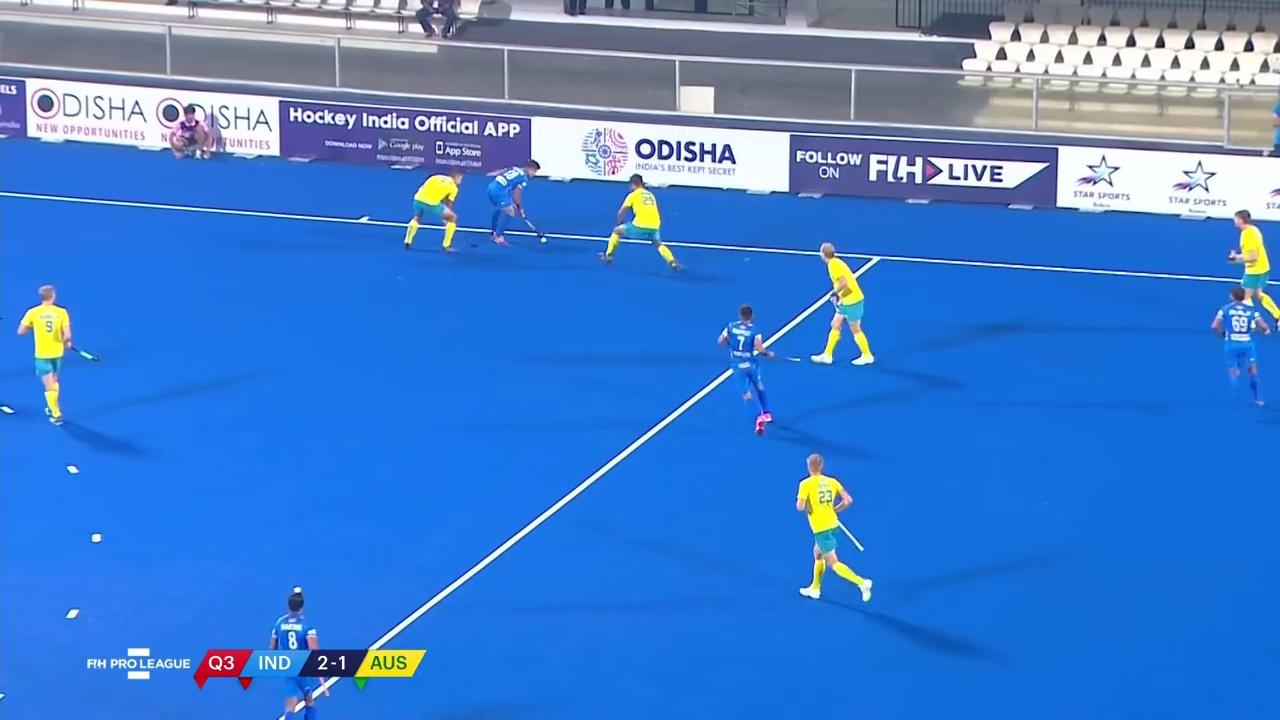ball: (532, 231, 554, 250)
